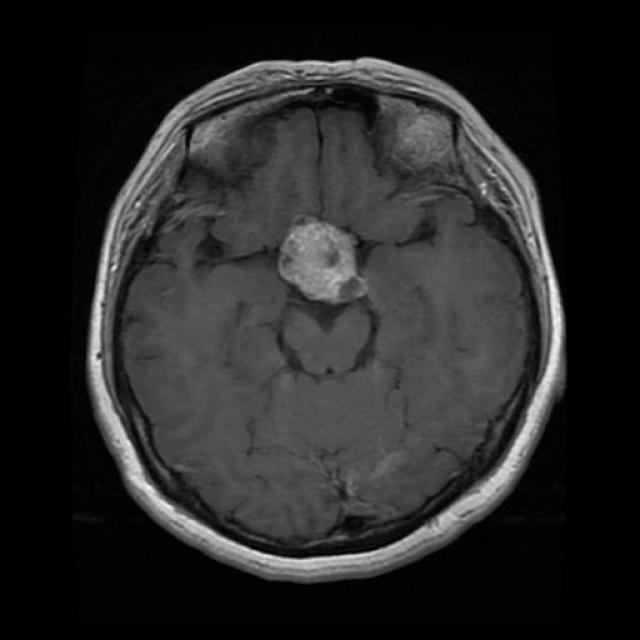Brain-Tumor: (266, 205, 385, 320)
eye: (364, 80, 490, 197), (176, 85, 290, 186)
